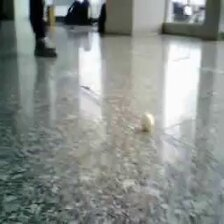w: (140, 112, 154, 130)
